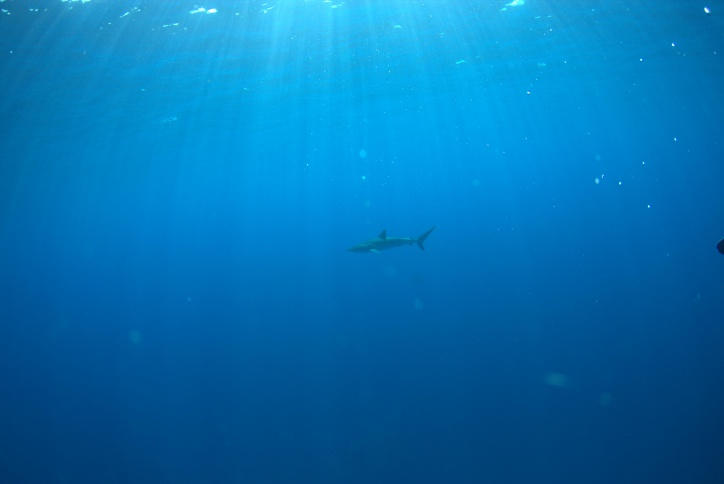Sedoso: (327, 223, 447, 258)
